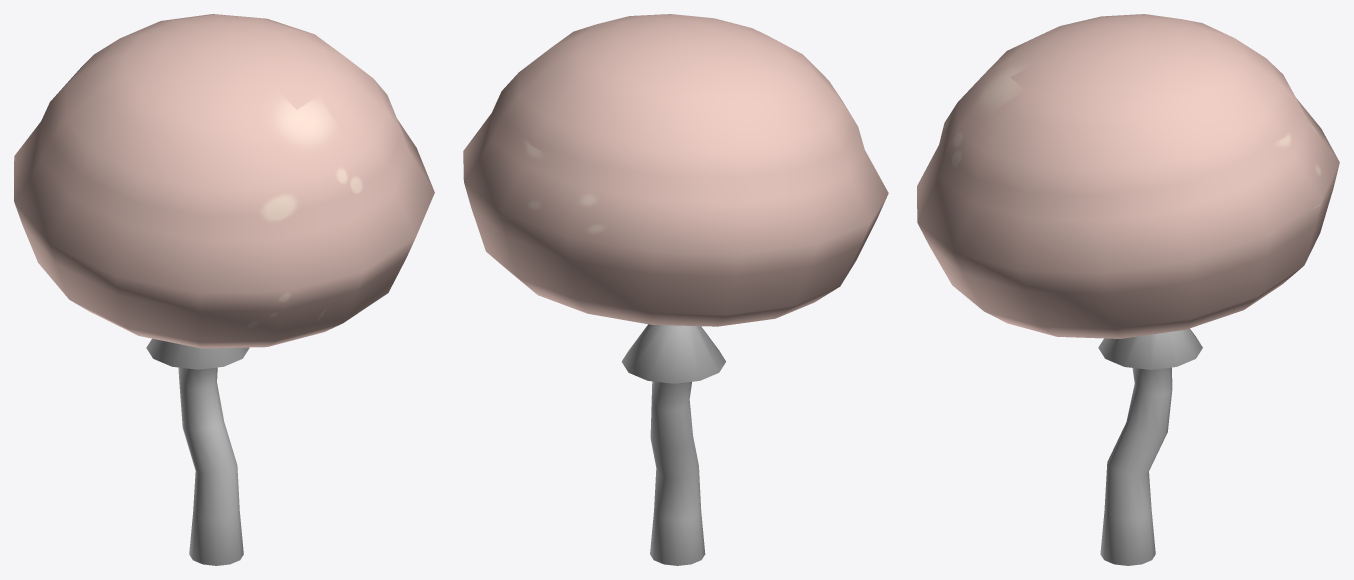
The model's file is mushroom-9.fbx.
3 views of the same model, side by side, from view 1: azimuth 30°, elevation 25°; view 2: azimuth 150°, elevation 25°; view 3: azimuth 270°, elevation 25° (orthographic).
Parts seen in each view (by area): view 1: Cylinder; view 2: Cylinder; view 3: Cylinder.
Part boxes in pixels (x1,y1,x2,y2): Cylinder: (14,14,434,565); Cylinder: (463,14,888,565); Cylinder: (917,14,1339,565).
Bounding box in the file's own units: 1550 × 2064 × 1527.
